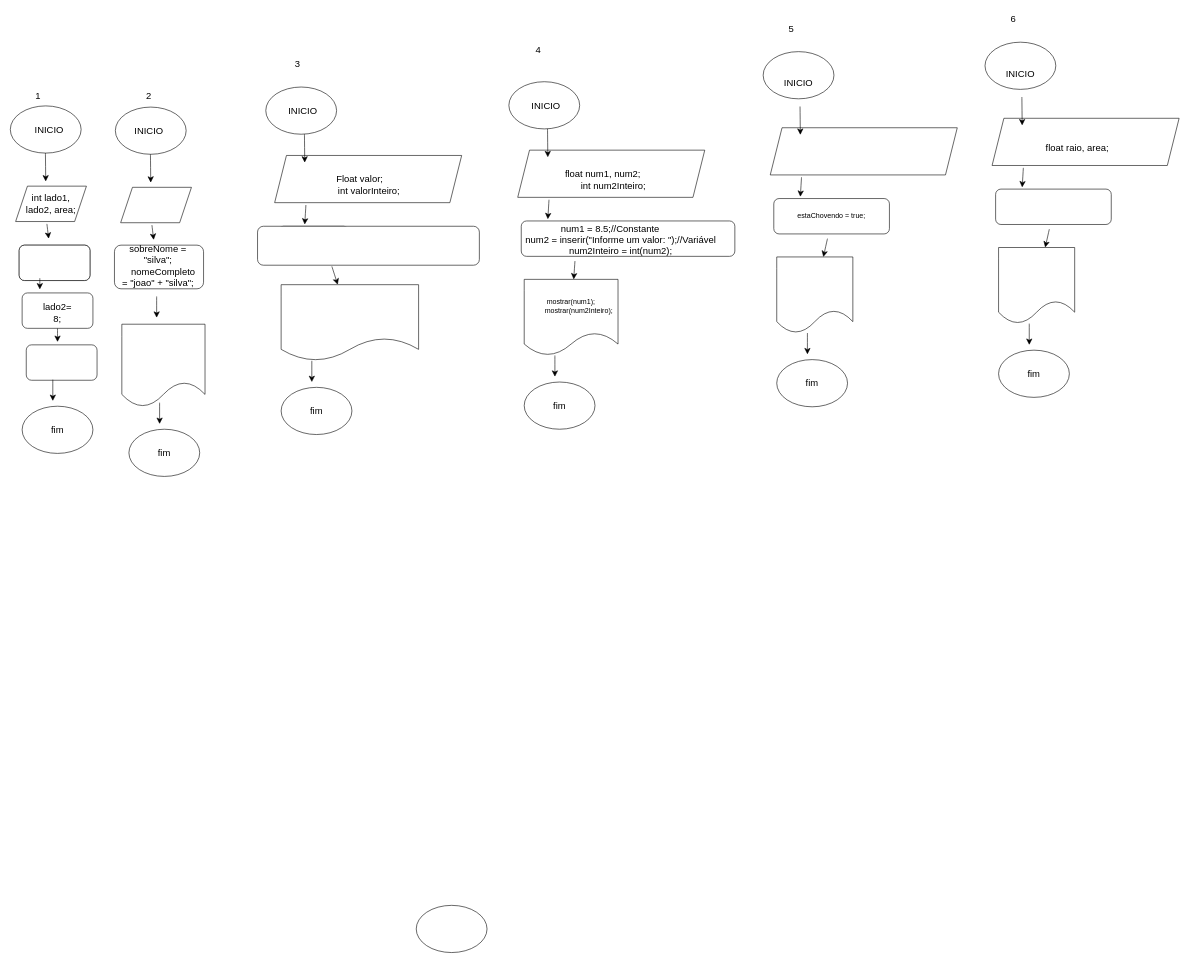
Image size: 1189x963. Some labels were removed from this diagram. The box of each missing label's shape, as (x1, y1, x2, y2) in pixels:
"mostrar"//escreva(valorInteiro);: (281, 284, 419, 361)
area = 3.14*pot(raio,2);: (998, 247, 1075, 324)
area= lado1 * lado2;: (26, 344, 97, 380)
bool estaChovendo;: (770, 127, 957, 175)
char nome, sobreNome, nomeCompleto;: (120, 187, 191, 223)
escreva (nomeCompleto);: (121, 324, 205, 407)
lado1= 4; lado2= 8;: (19, 245, 90, 281)
mostrar("está chovendo");: (776, 256, 853, 333)
raio = 2.00;: (995, 189, 1111, 224)
valor = 10.5; valorInteiro = int(valor);: (257, 226, 479, 265)
